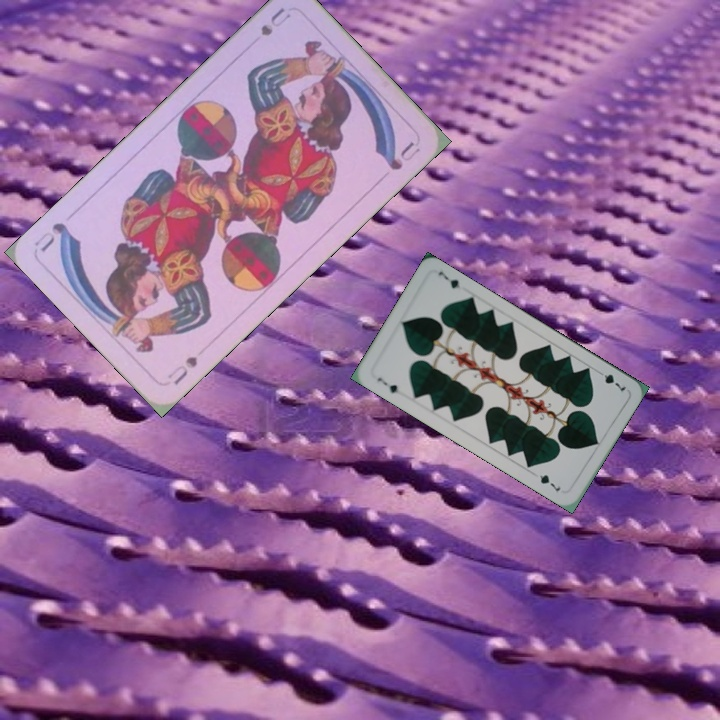G7: (593, 366, 628, 394), (373, 373, 405, 398)
SU: (256, 3, 293, 39), (163, 352, 200, 388)
